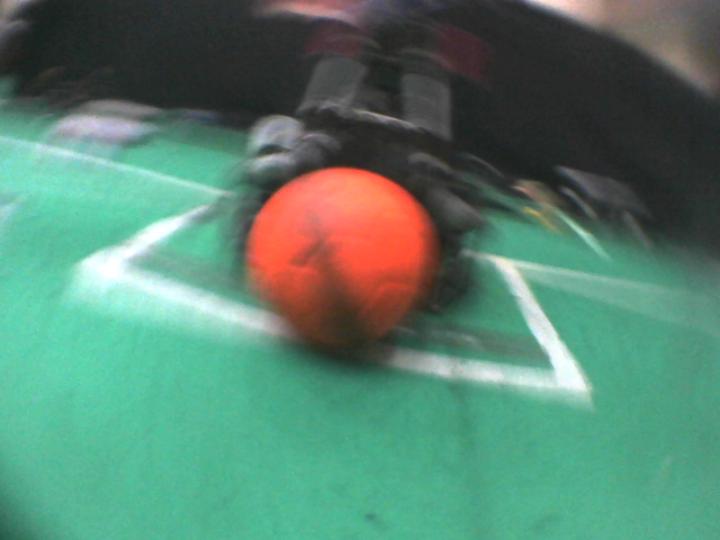bola: (237, 156, 447, 355)
